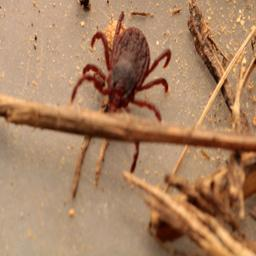Rhipicephalus sanguineus: (70, 11, 172, 122)
